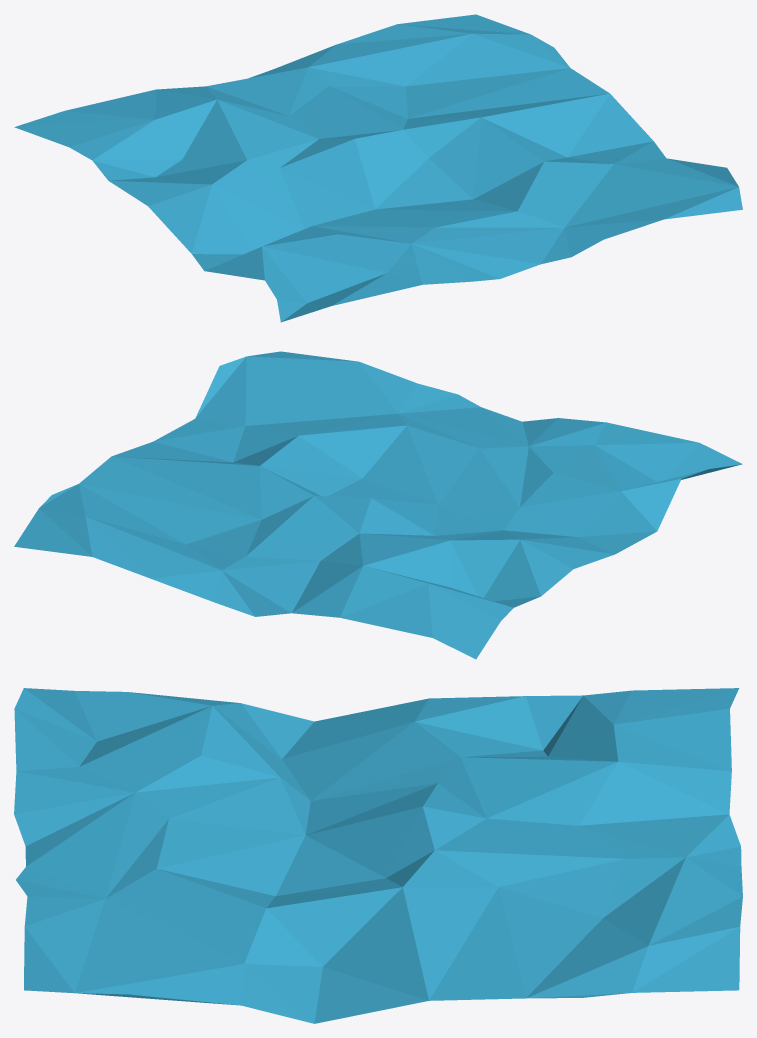
The model's file is Sea_tex.fbx.
The picture shows the model from 3 angles, top to bottom: view 1: azimuth 30°, elevation 25°; view 2: azimuth 150°, elevation 25°; view 3: azimuth 270°, elevation 25°; orthographic projection. The views are drawn at different scales.
Visible parts, largest first — view 1: Sea_tex; view 2: Sea_tex; view 3: Sea_tex.
Boxes of the visible parts, box(x1,y1,x2,y2) form: Sea_tex: box(14, 14, 742, 322); Sea_tex: box(14, 351, 742, 659); Sea_tex: box(14, 688, 742, 1023).
Bounding box in the file's own units: 4.2 × 0.3484 × 4.08.
